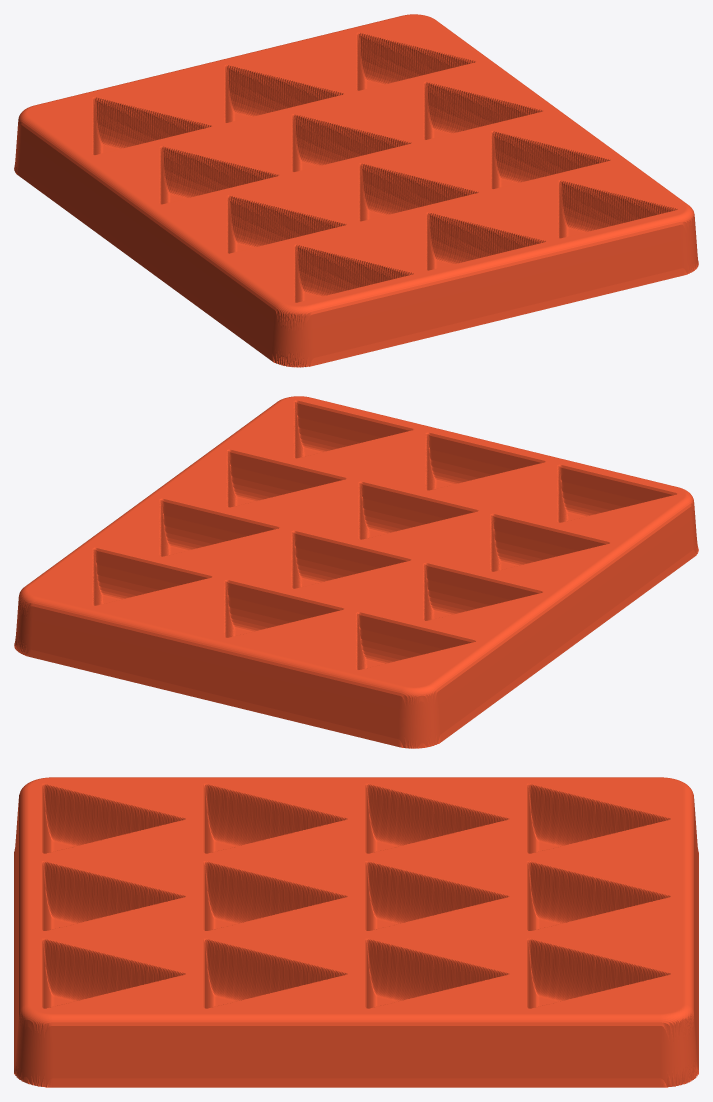
The model's file is mold.glb.
The picture shows the model from 3 angles, top to bottom: view 1: azimuth 30°, elevation 25°; view 2: azimuth 150°, elevation 25°; view 3: azimuth 270°, elevation 25°; orthographic projection. The views are drawn at different scales.
Parts seen in each view (by area): view 1: geometry_0; view 2: geometry_0; view 3: geometry_0.
Part boxes in pixels (x1=…): geometry_0: x1=14, y1=14, x2=698, y2=367; geometry_0: x1=14, y1=396, x2=698, y2=748; geometry_0: x1=14, y1=777, x2=698, y2=1087.
Bounding box in the file's own units: 0.1389 × 0.0175 × 0.1617.
